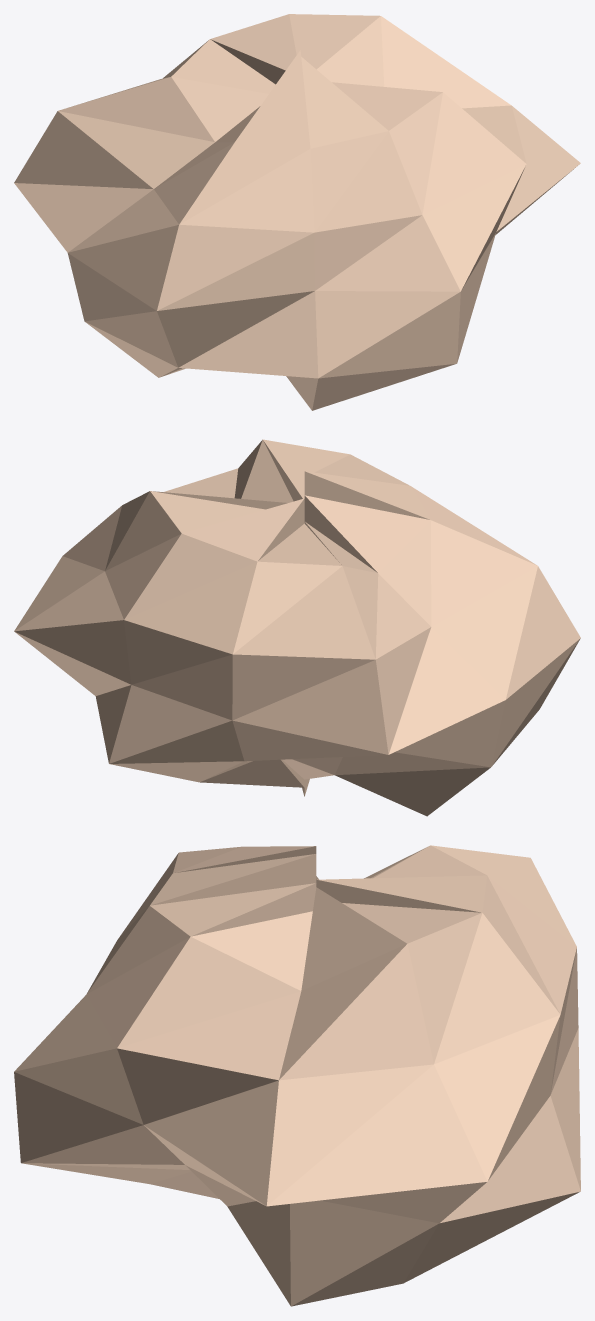
The model's file is rock_083.obj.
3 views of the same model, one above another, from view 1: azimuth 30°, elevation 25°; view 2: azimuth 150°, elevation 25°; view 3: azimuth 270°, elevation 25° (orthographic). The views are drawn at different scales.
Bounding box in the file's own units: 0.9939 × 0.645 × 0.8222.
